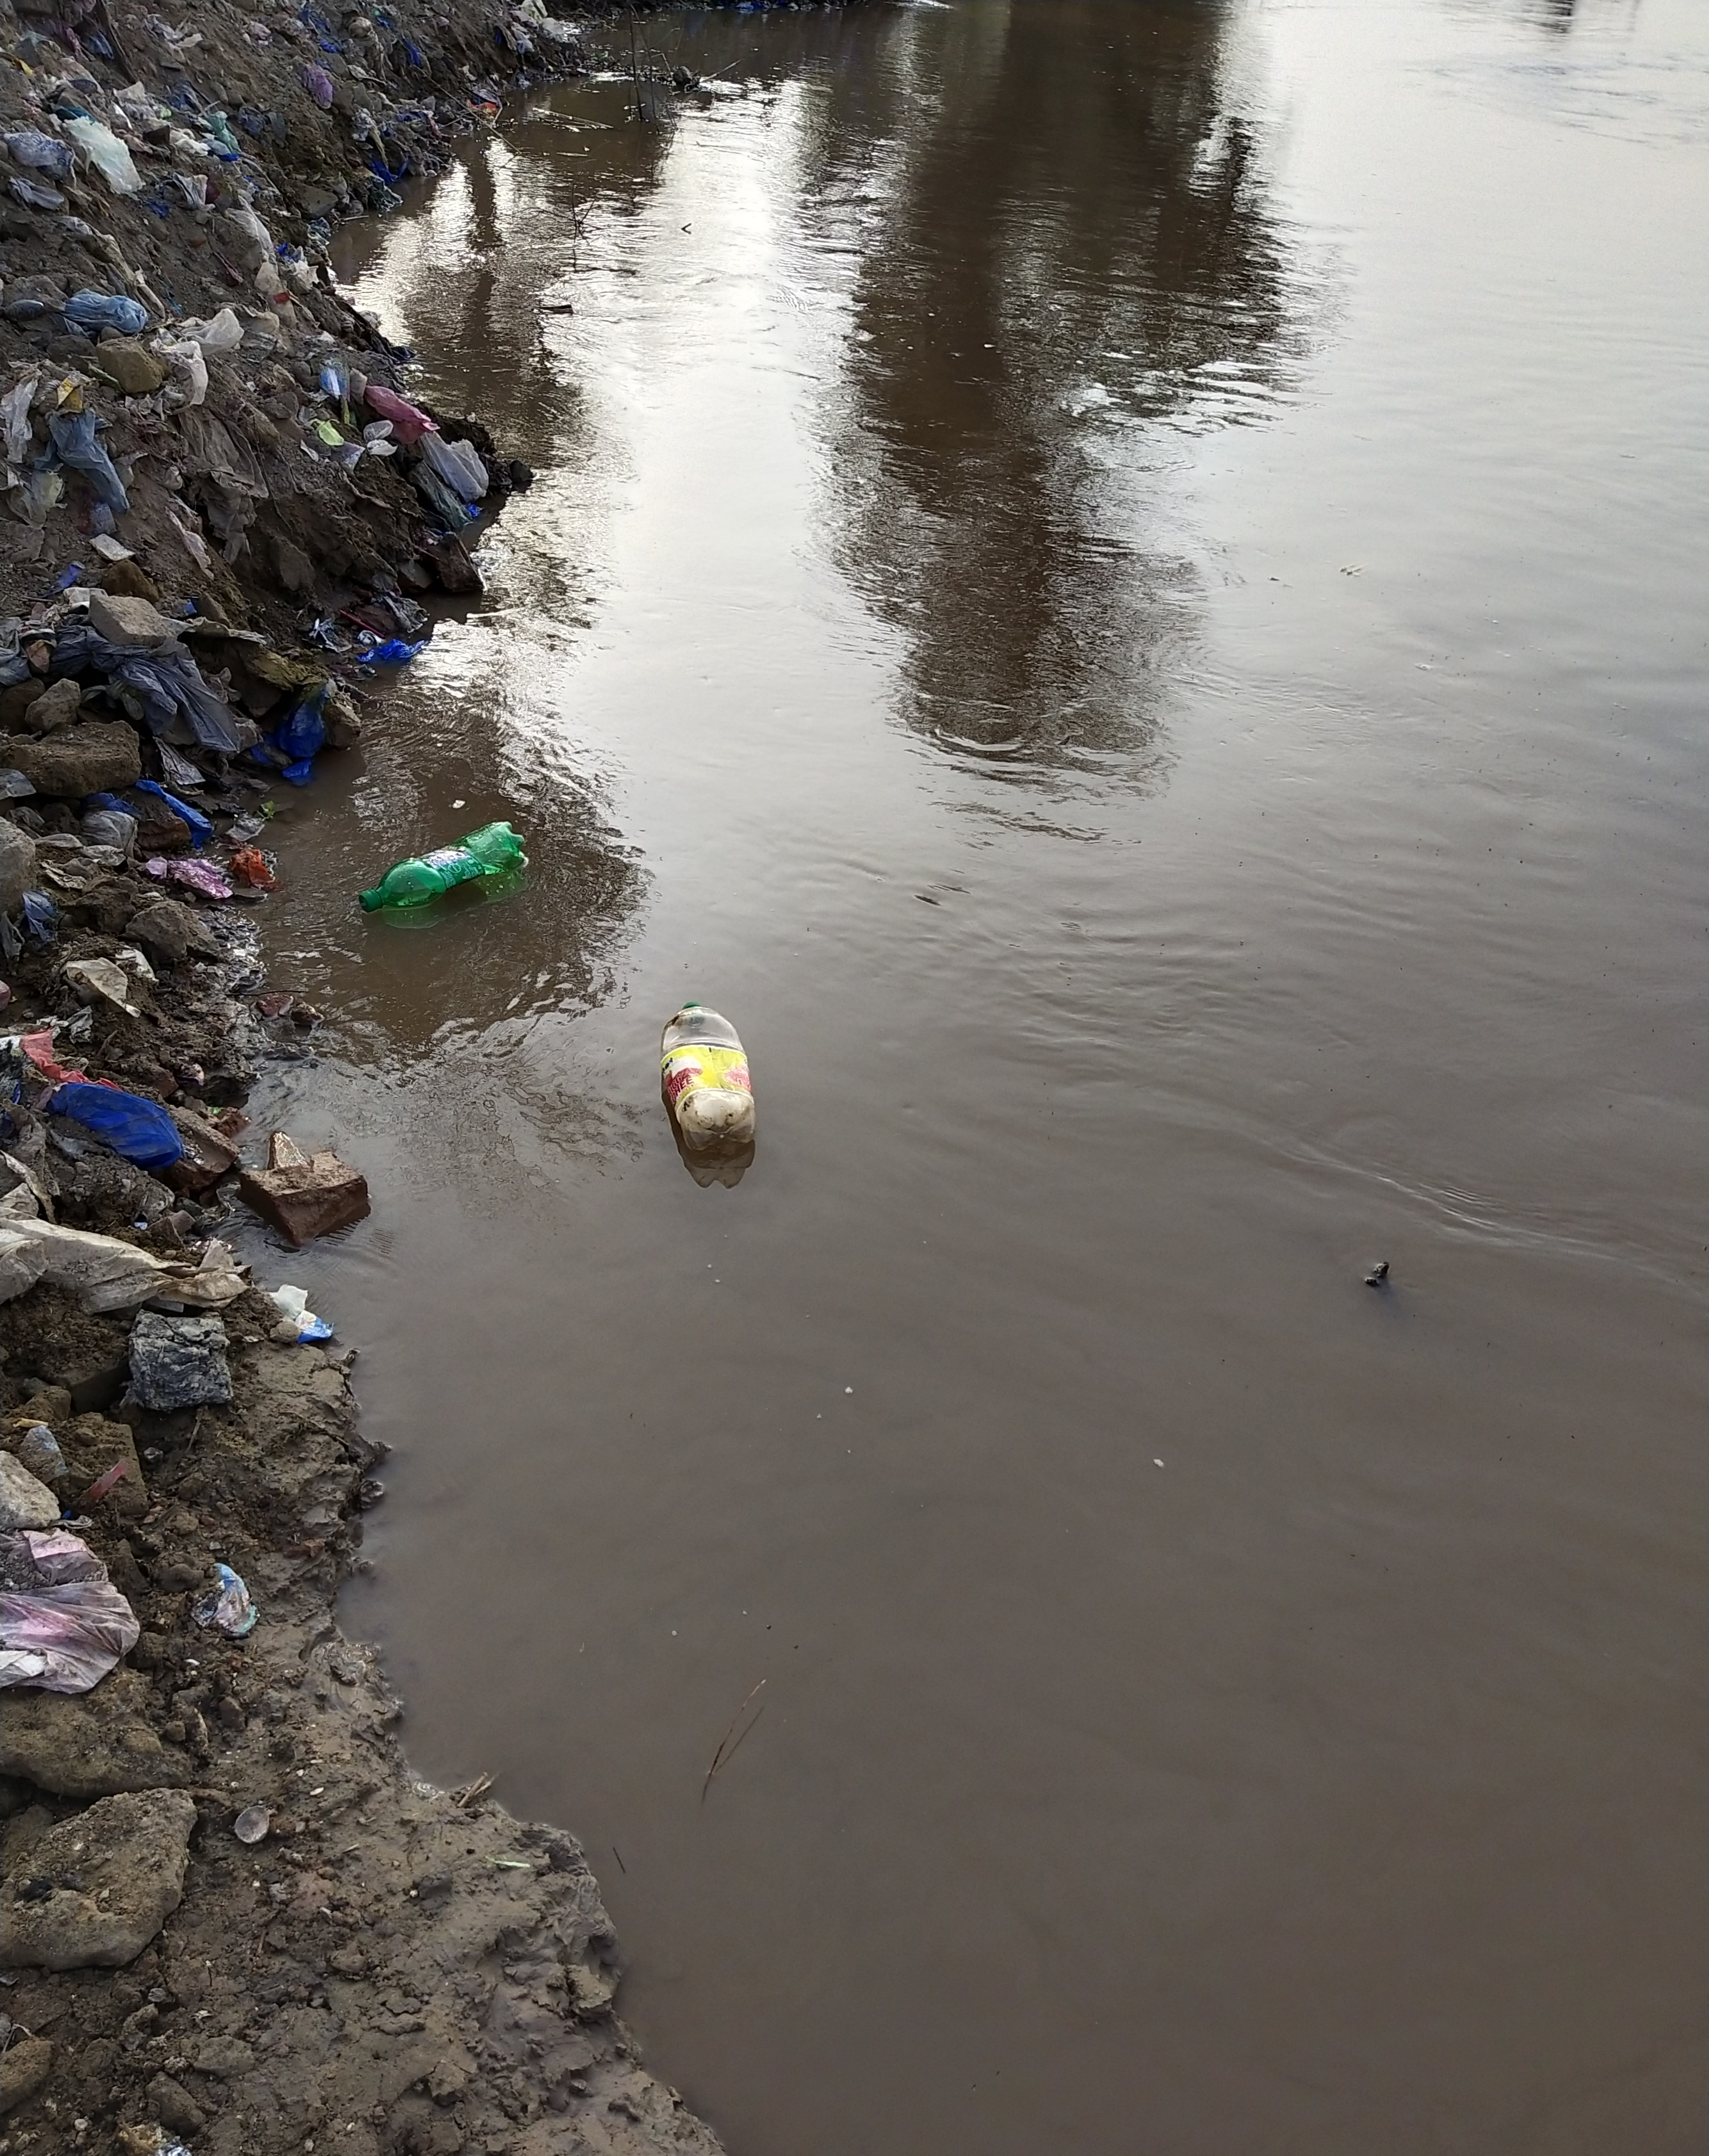Plastic Bottle: (359, 819, 527, 912), (661, 1001, 756, 1151)
